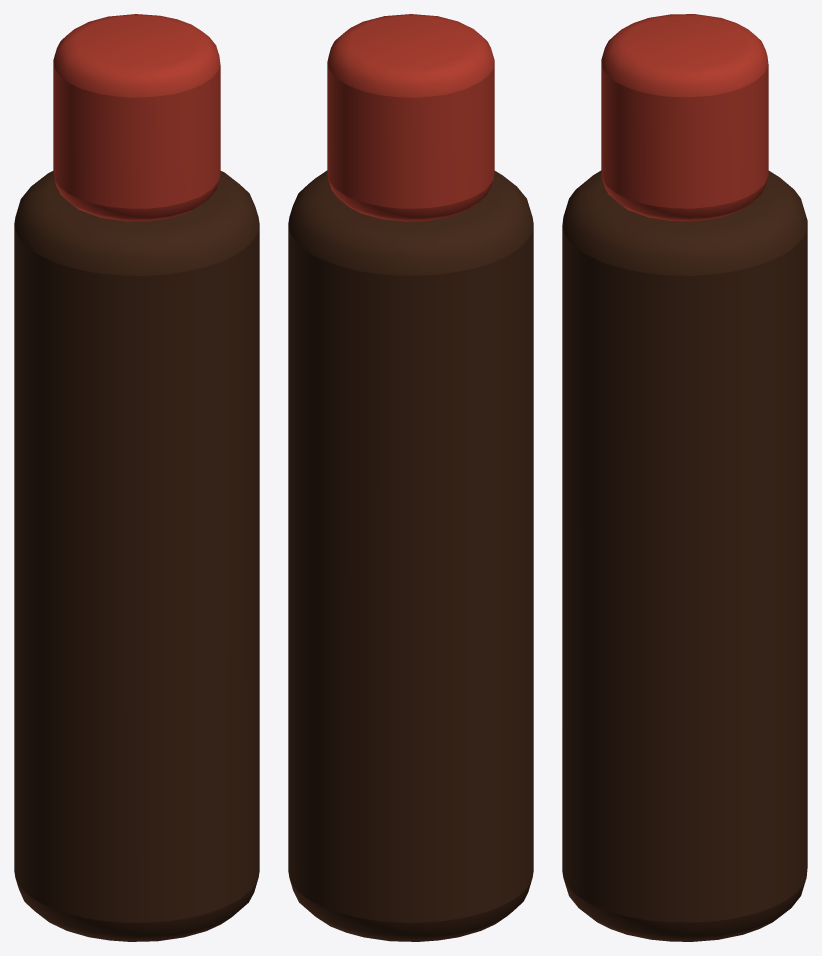
Rendered from chai_xi_dau.glb.
3 renders of one model, left to right at view 1: azimuth 30°, elevation 25°; view 2: azimuth 150°, elevation 25°; view 3: azimuth 270°, elevation 25°, orthographic.
Parts seen in each view (by area): view 1: chai_xi_dau; view 2: chai_xi_dau; view 3: chai_xi_dau.
Part boxes in pixels (x1=…): chai_xi_dau: x1=14, y1=14, x2=259, y2=941; chai_xi_dau: x1=288, y1=14, x2=533, y2=941; chai_xi_dau: x1=562, y1=14, x2=807, y2=941.
Size of the model in its own units: 0.044 by 0.17 by 0.044.
